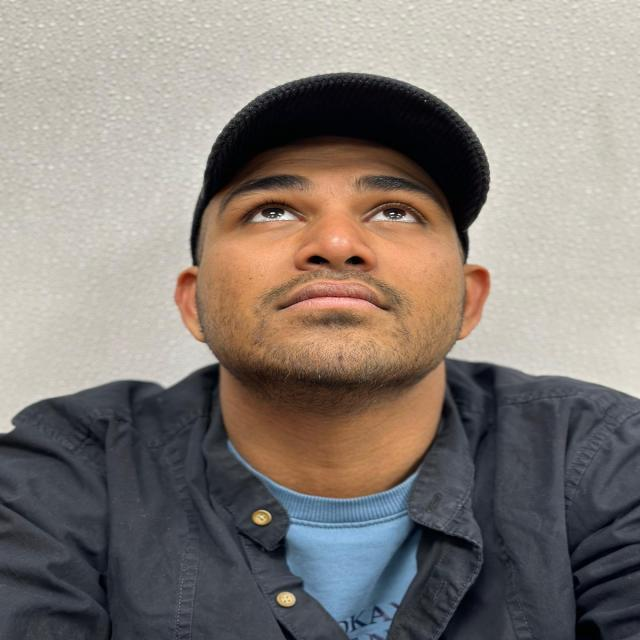cap: (159, 59, 520, 268)
